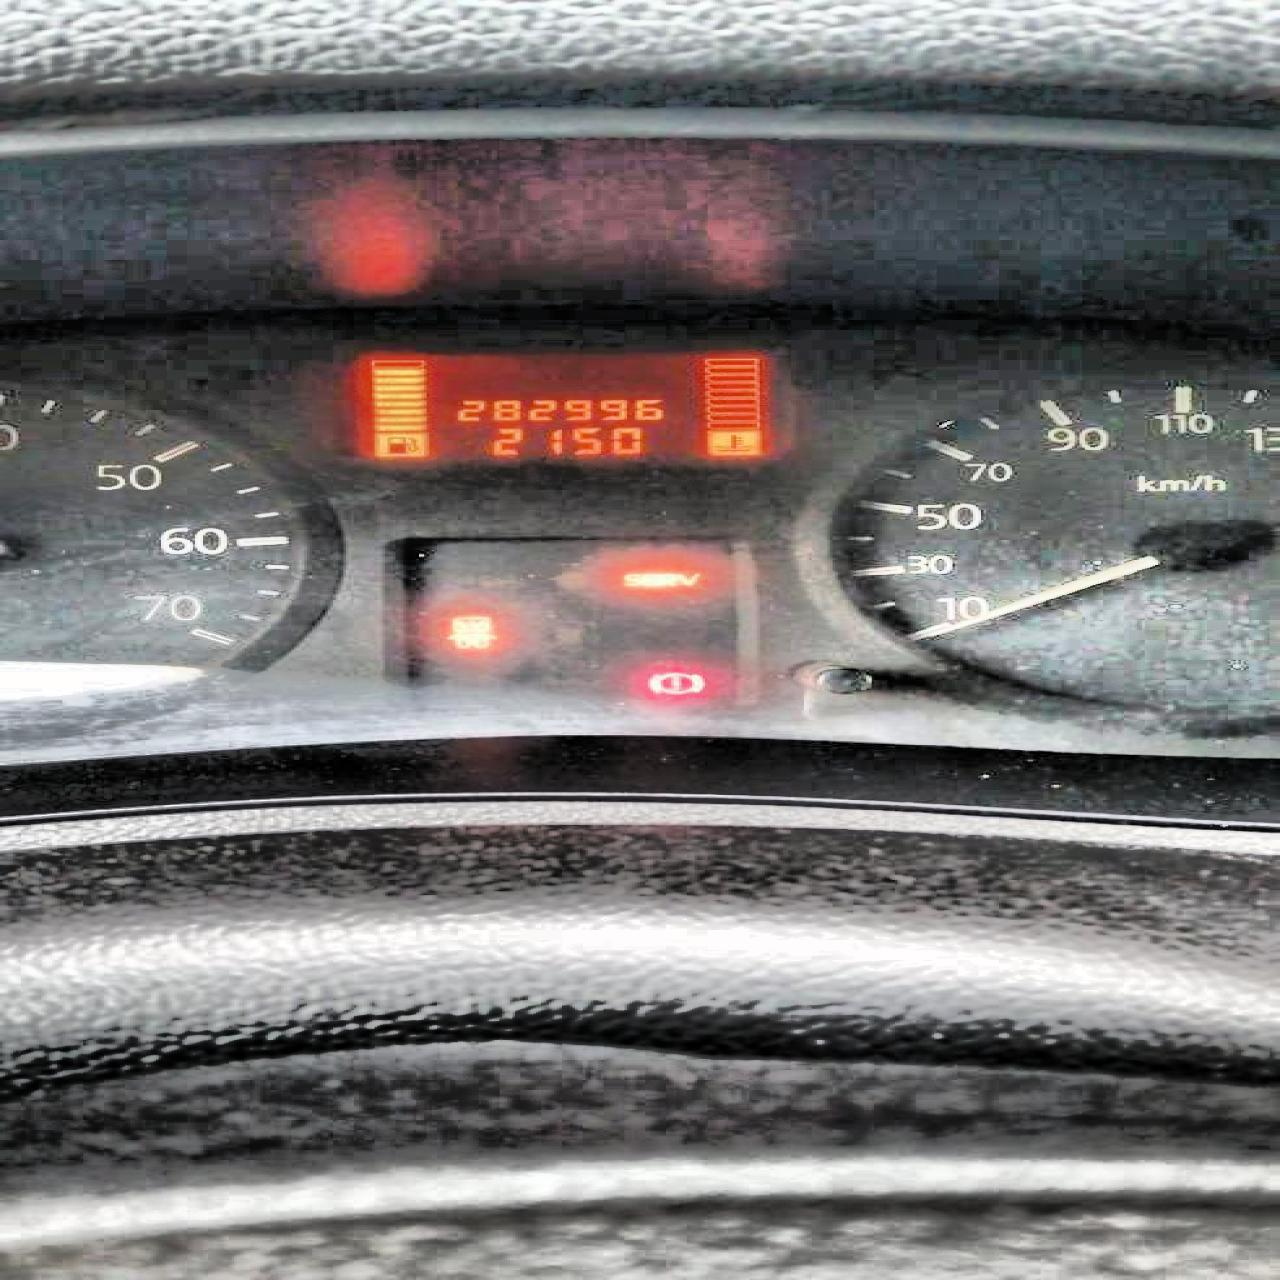0: (608, 427, 642, 454)
1: (546, 425, 567, 455)
2: (489, 425, 520, 455), (455, 397, 484, 422), (527, 397, 554, 422)
5: (570, 425, 601, 455)
6: (635, 396, 663, 418)
8: (491, 397, 517, 421)
9: (563, 397, 591, 421), (599, 397, 625, 421)
odometer: (349, 347, 770, 462)
